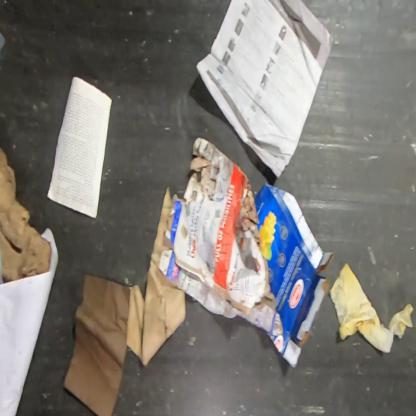cardboard: (157, 136, 277, 334), (254, 181, 334, 369), (0, 145, 51, 284)
